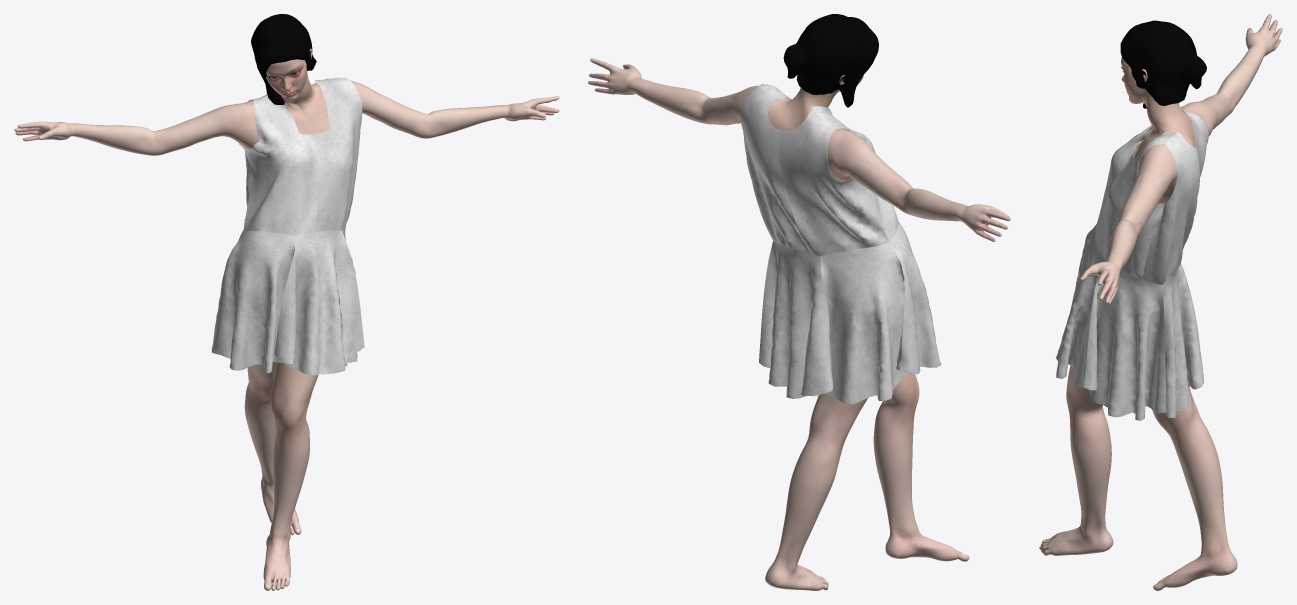
File: Dynamic.obj
The picture shows the model from 3 angles, left to right: view 1: azimuth 30°, elevation 25°; view 2: azimuth 150°, elevation 25°; view 3: azimuth 270°, elevation 25°; orthographic projection. The views are drawn at different scales.
Bounding box in the file's own units: 1601 × 1717 × 679.
